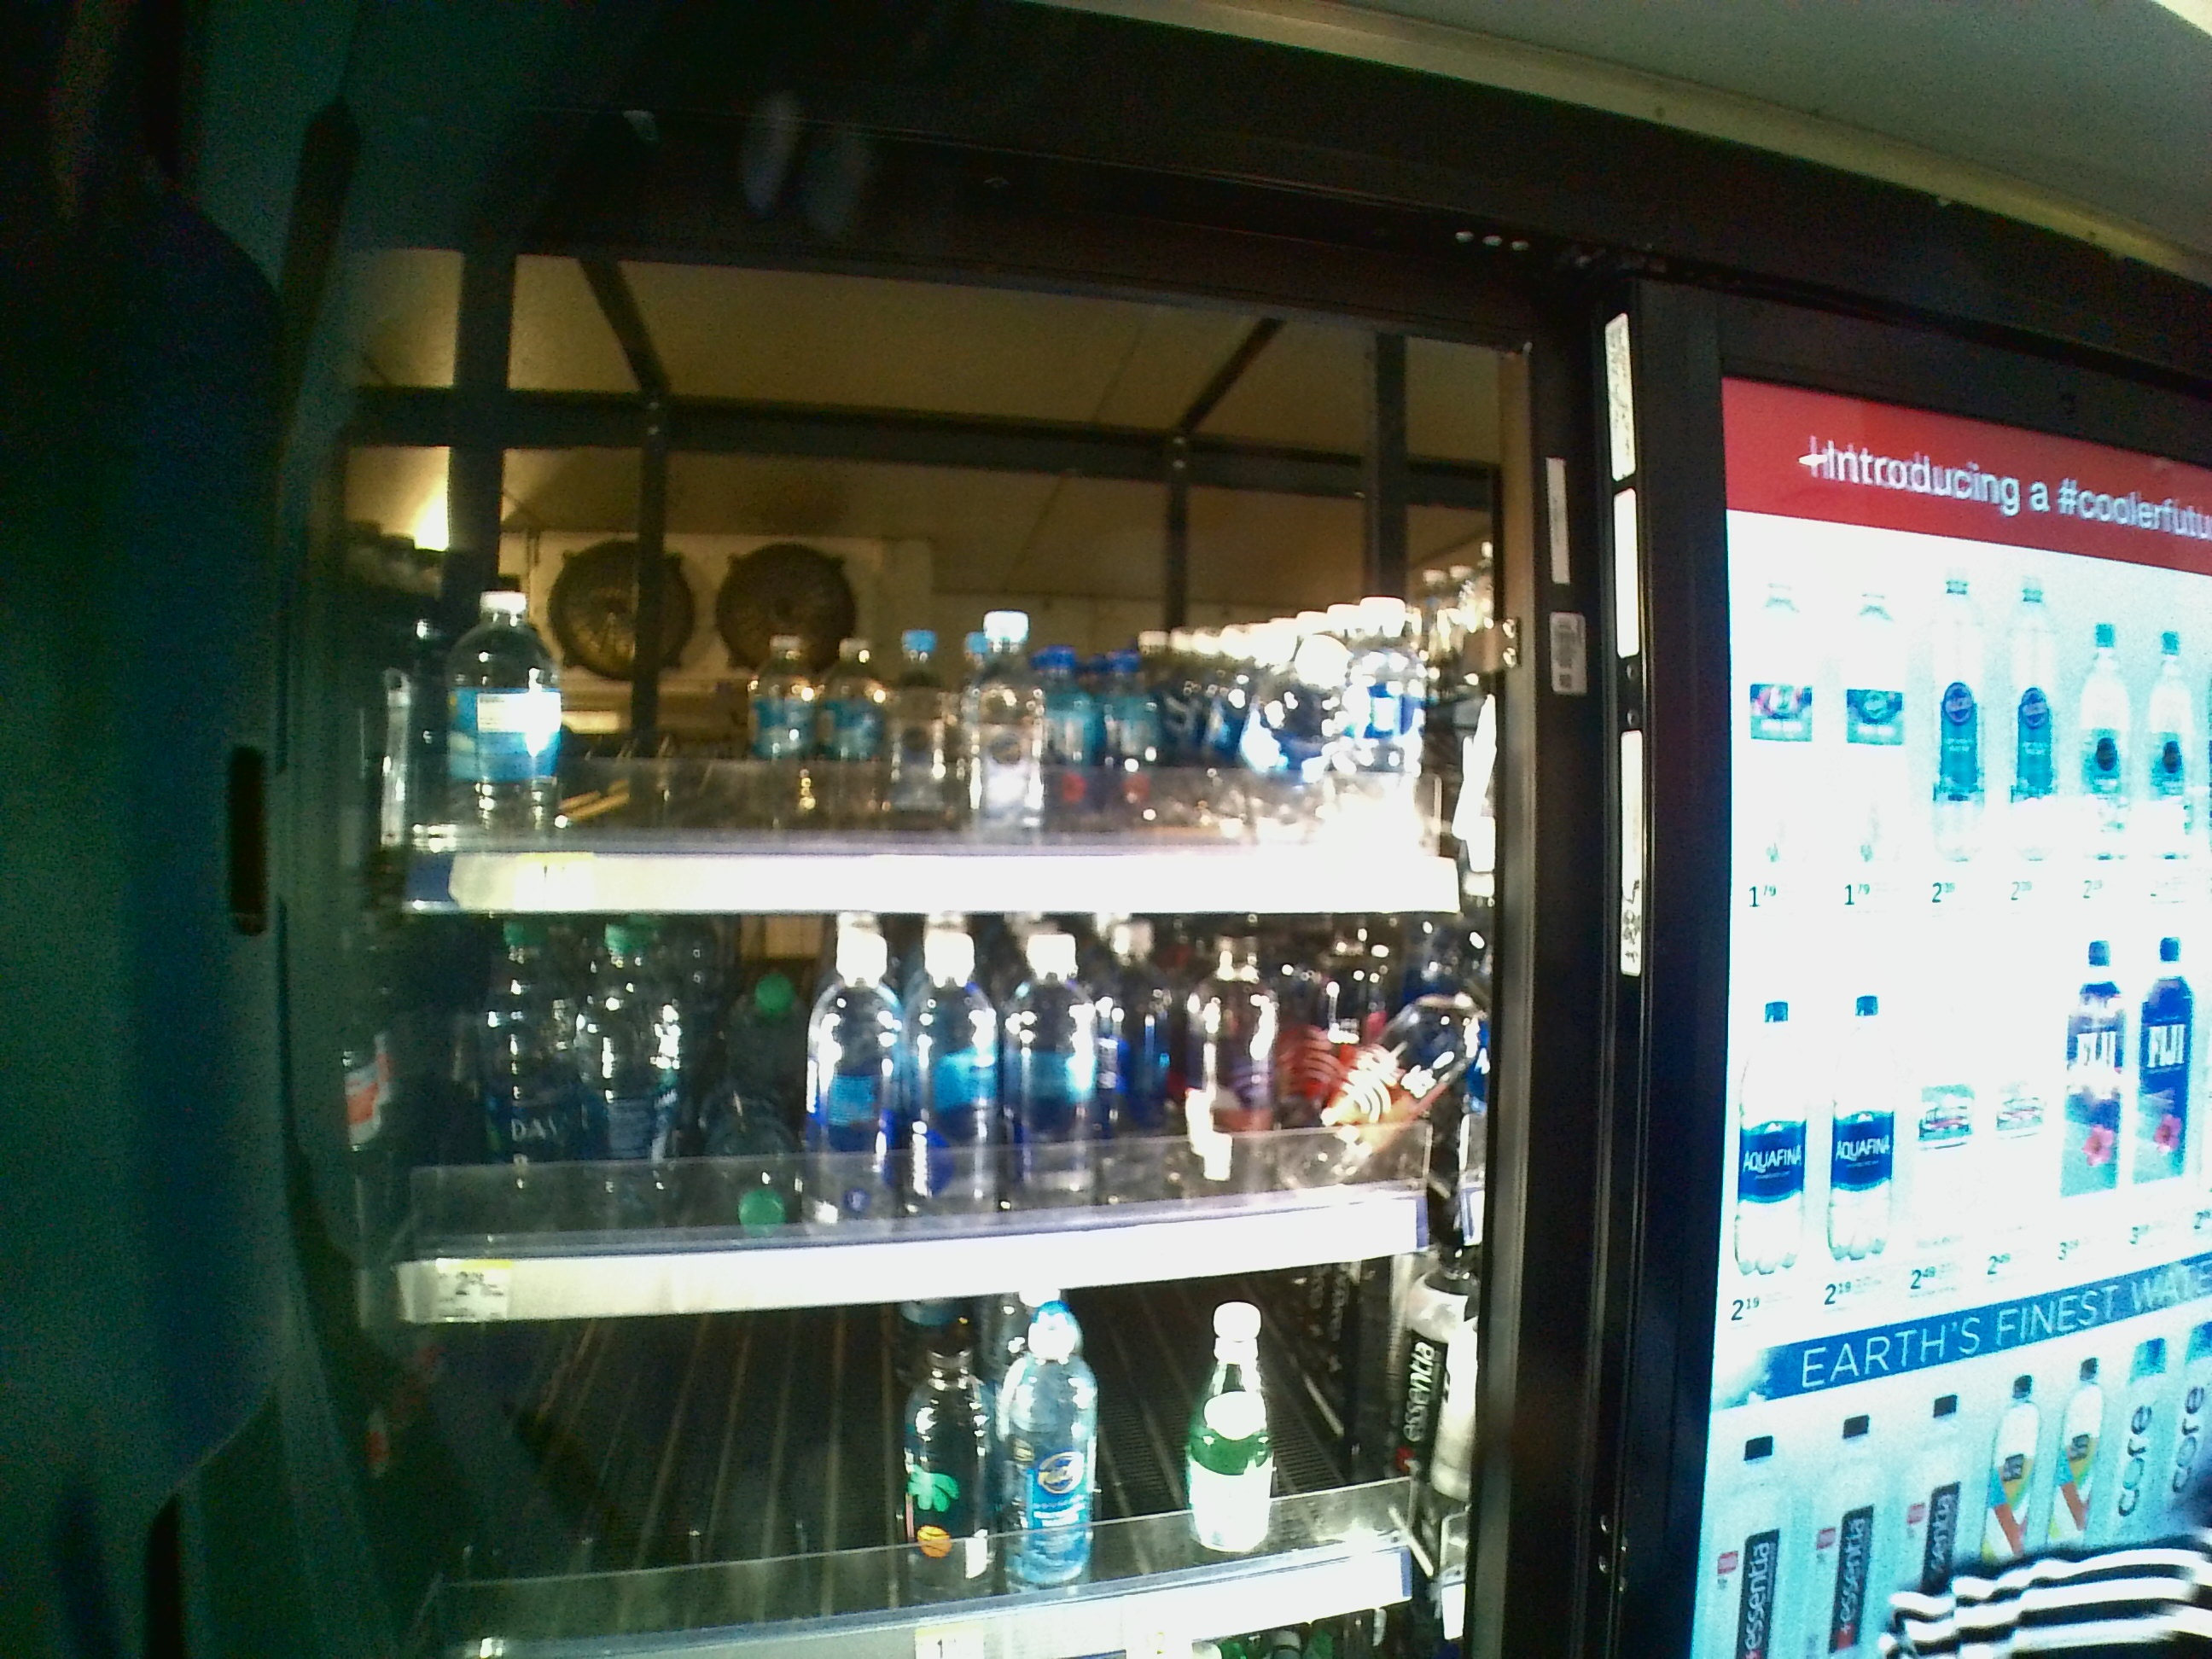Shelf: (361, 242, 1514, 913), (355, 918, 1505, 1324)
